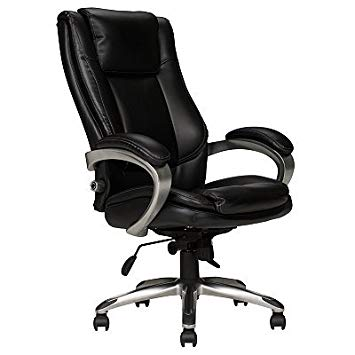chairs: (55, 5, 296, 349)
